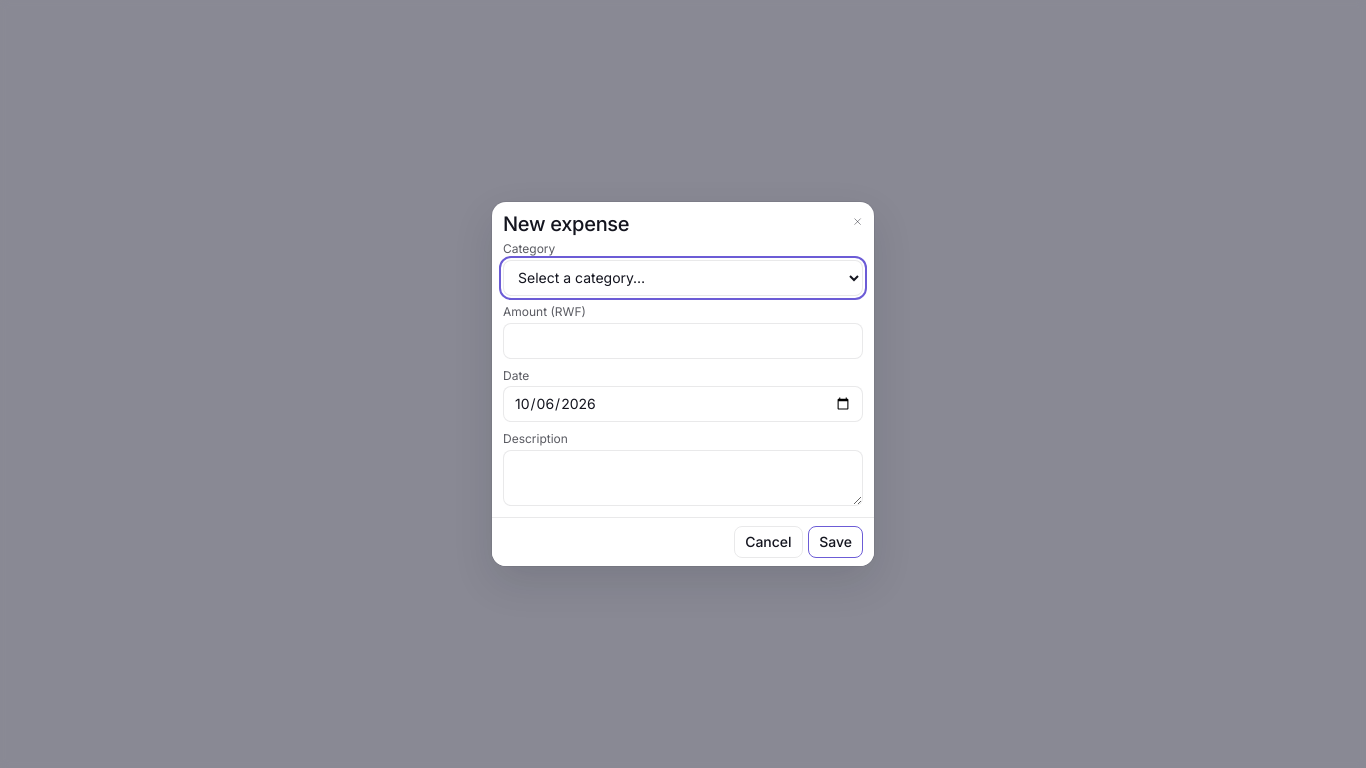
Test: ExpenseFormDialog › shows validation errors and does not submit when category and amount are missing
What coordinates should you click on to do the following:
click the button "Save"
I would click on:
 (836, 542)
Its box is [808,526,863,558].
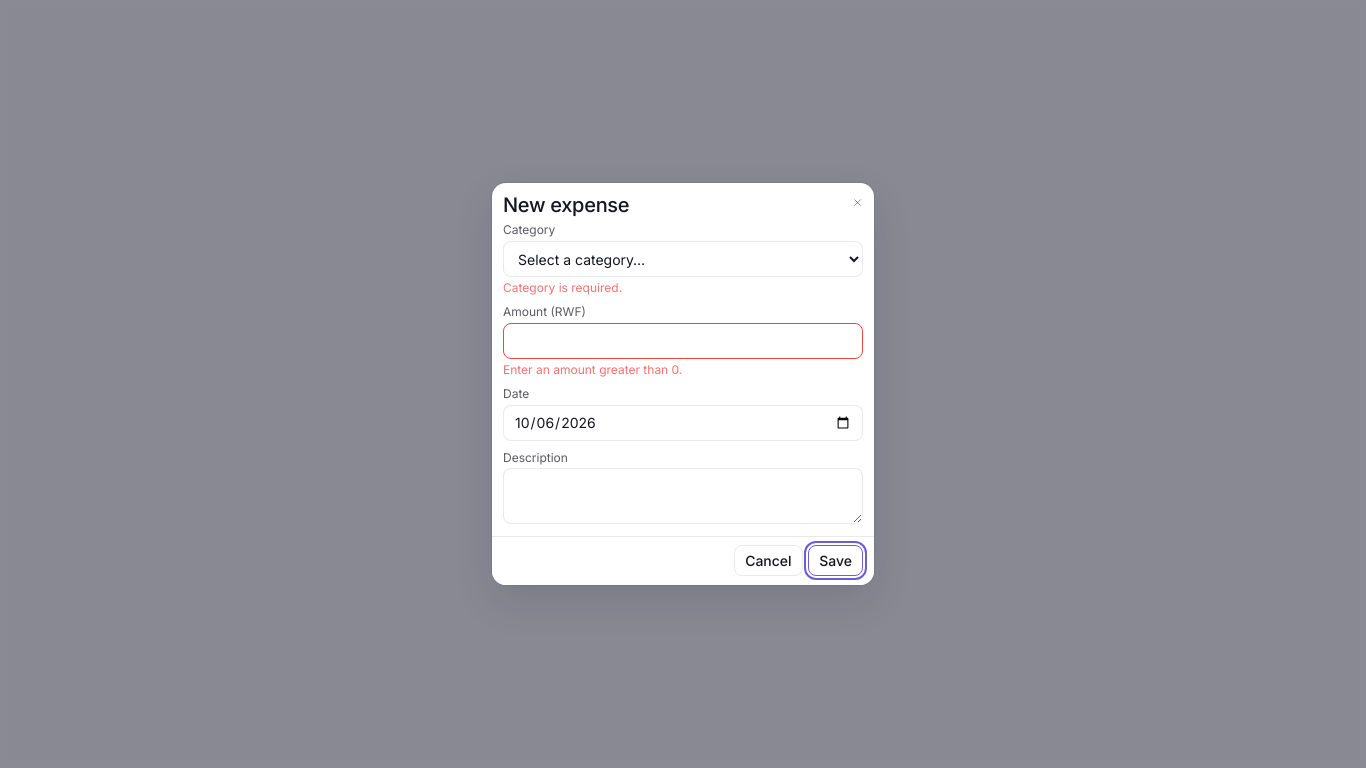
Check: the text "Category is required." is shown, box [503,280,622,295]
Check: the text "Enter an amount greater than 0." is shown, box [503,362,682,377]
